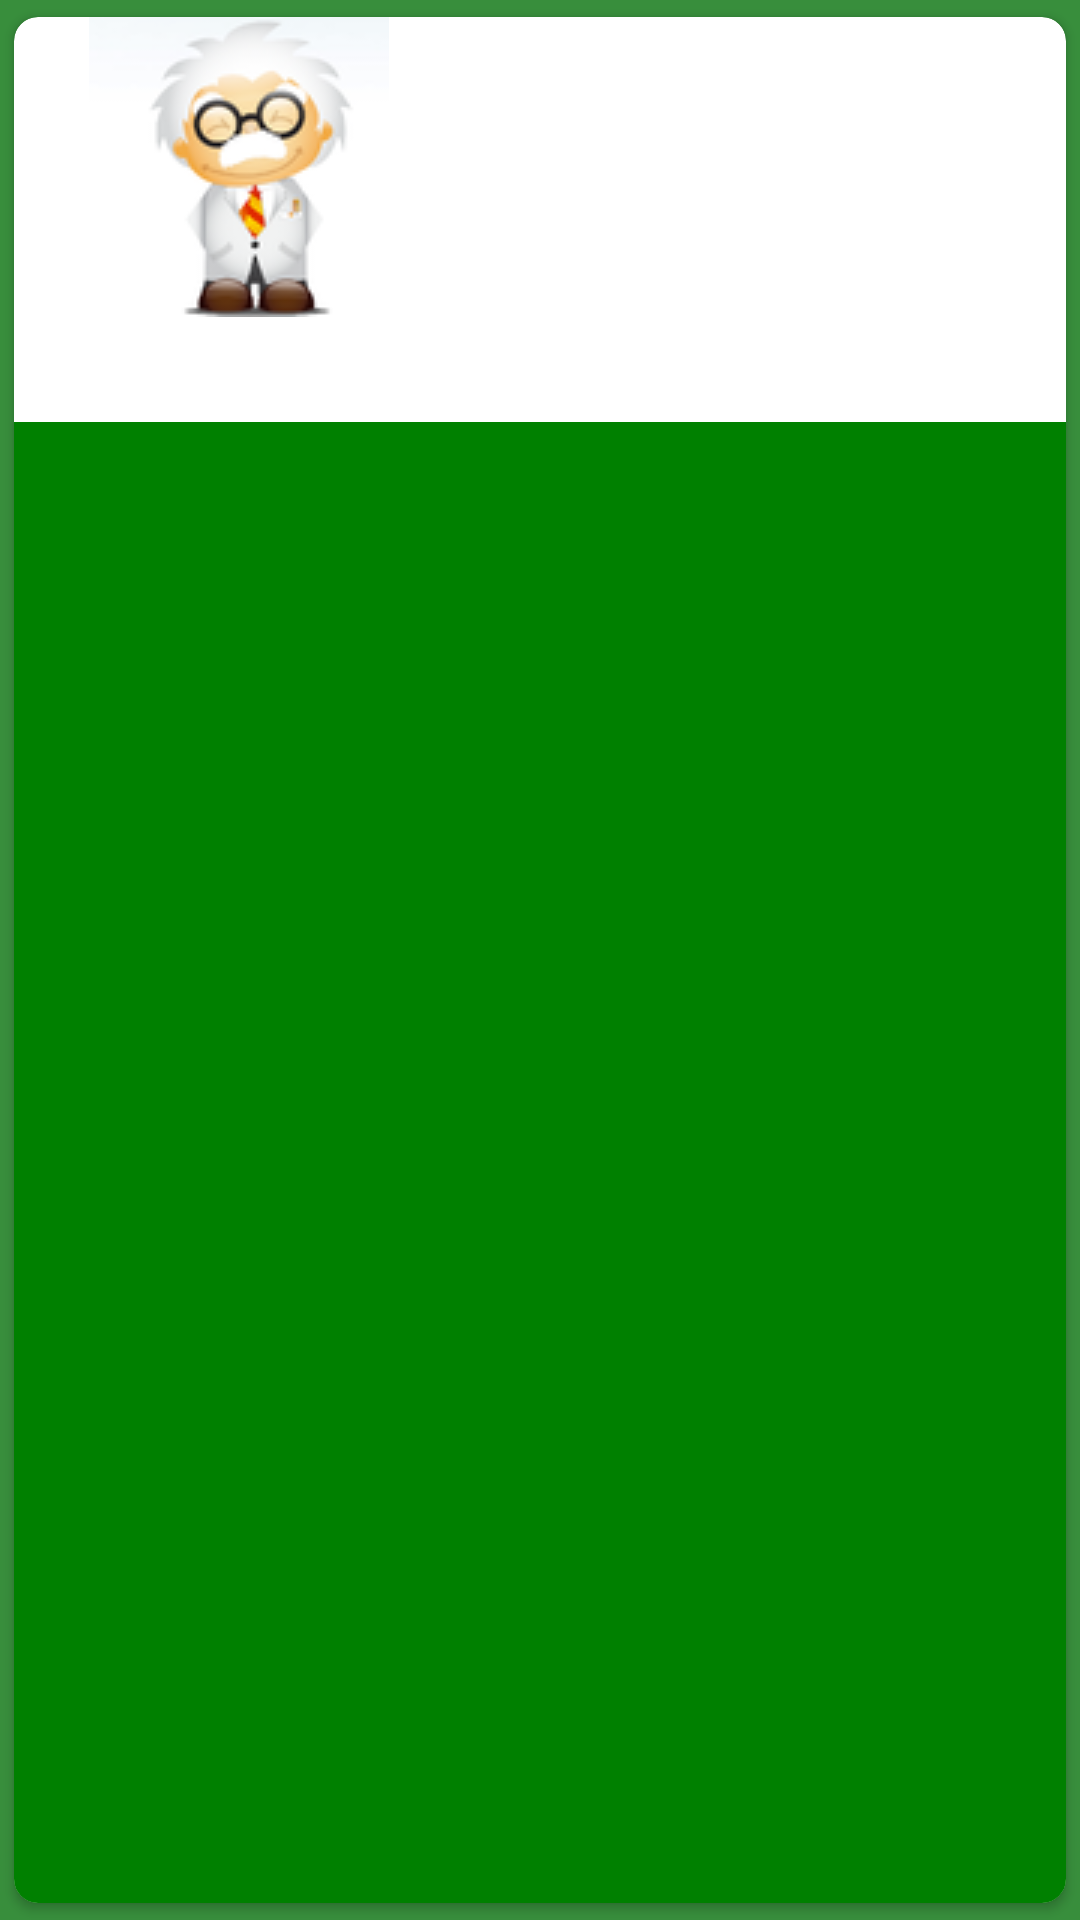

Where to tap for icons on this 1080w x 1920h app screen, as (x=x, y=y):
prof: (x=251, y=169)
